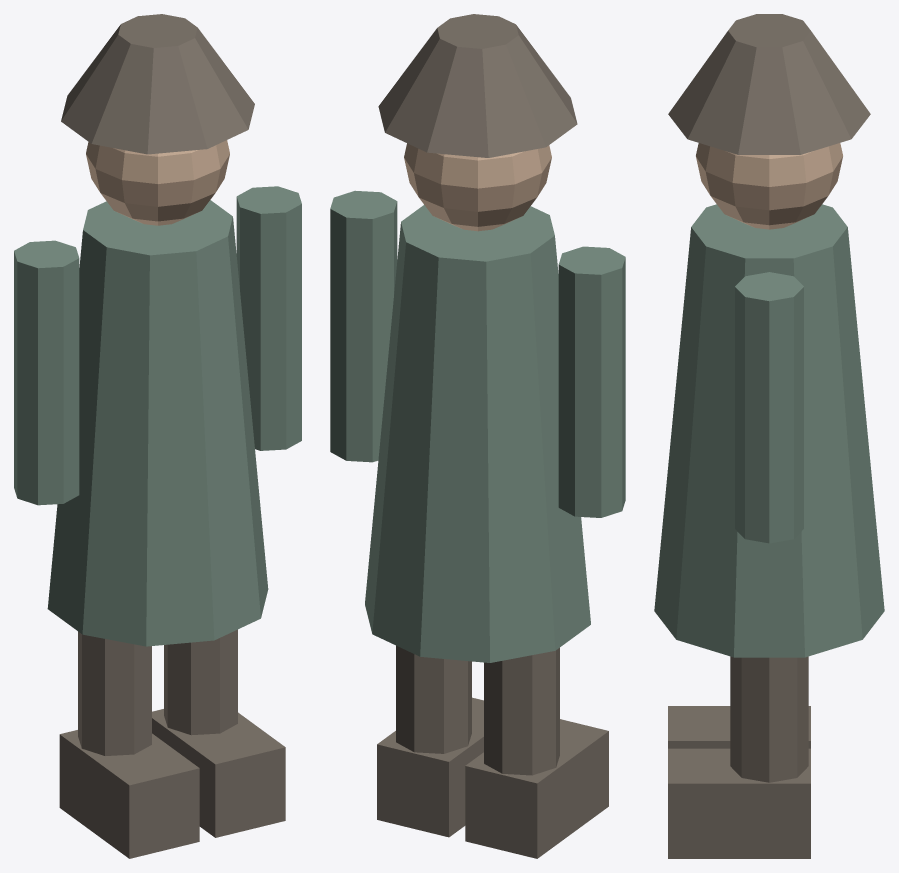
The model's file is traveler-demo.glb.
The picture shows the model from 3 angles, left to right: view 1: azimuth 30°, elevation 25°; view 2: azimuth 150°, elevation 25°; view 3: azimuth 270°, elevation 25°; orthographic projection. The views are drawn at different scales.
Visible parts, largest first — view 1: robe, cap, arm, arm.001, boot, boot.001, head, leg, leg.001; view 2: robe, cap, arm, arm.001, boot, head, leg, boot.001, leg.001; view 3: robe, cap, arm.001, boot.001, leg.001, head, boot.
Part boxes in pixels (x1,y1,x2,y2): robe: [47, 200, 268, 646]; cap: [61, 14, 254, 154]; arm: [14, 240, 79, 505]; arm.001: [236, 186, 301, 450]; boot: [59, 730, 199, 858]; boot.001: [152, 709, 285, 837]; head: [86, 140, 229, 225]; leg: [78, 631, 151, 755]; leg.001: [164, 629, 237, 735]; robe: [365, 205, 590, 662]; cap: [378, 14, 577, 157]; arm: [558, 246, 625, 517]; arm.001: [330, 190, 397, 462]; boot: [465, 719, 608, 858]; head: [404, 143, 551, 231]; leg: [484, 648, 559, 775]; boot.001: [377, 697, 483, 837]; leg.001: [396, 645, 471, 753]; robe: [654, 204, 884, 657]; cap: [668, 14, 870, 154]; arm.001: [735, 272, 803, 543]; boot.001: [668, 748, 810, 858]; leg.001: [730, 656, 808, 782]; head: [696, 143, 842, 229]; boot: [668, 706, 810, 748].
Bounding box in the file's own units: 0.72 × 1.89 × 0.5.
